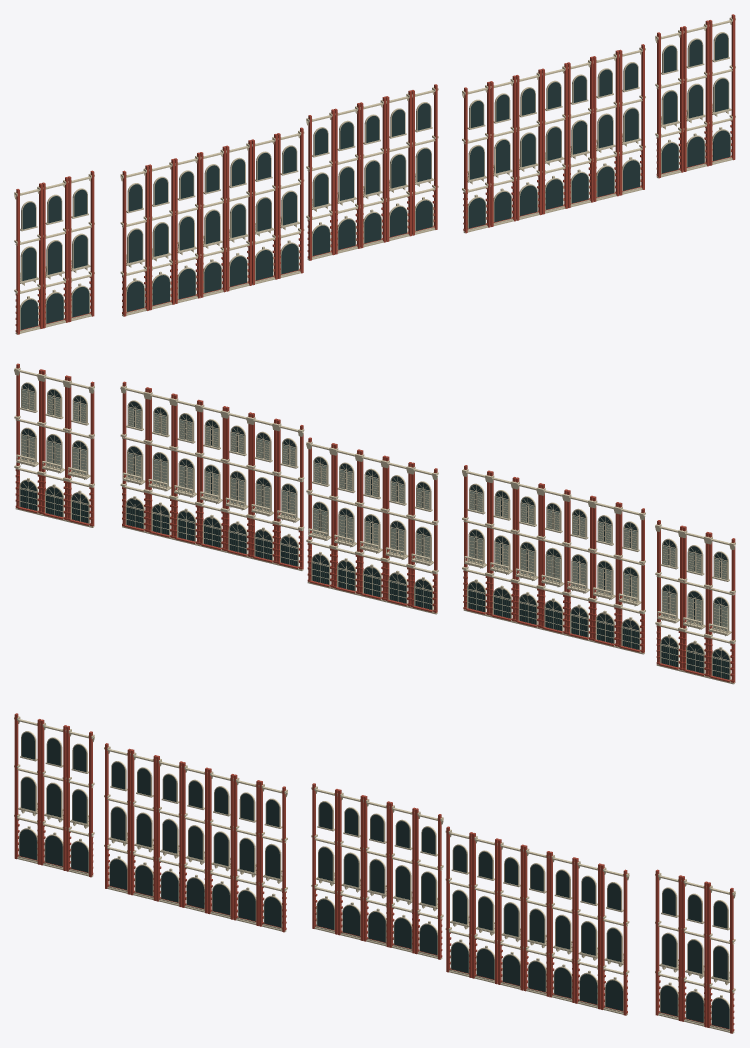
File: KOL_T1_WRITERS__03_Facades.fbx
3 renders of one model, top to bottom at view 1: azimuth 30°, elevation 25°; view 2: azimuth 150°, elevation 25°; view 3: azimuth 330°, elevation 25°, orthographic.
Visible parts, largest first — view 1: KOL_T1_WRITERS__03_Facades__KOL_T1_HeritageGlass, KOL_T1_WRITERS__03_Facades__KOL_T1_HeritageRedLight, KOL_T1_WRITERS__03_Facades__KOL_T1_HeritageCream.003, KOL_T1_WRITERS__03_Facades__KOL_T1_HeritageCream.007, KOL_T1_WRITERS__03_Facades__KOL_T1_HeritageCream.002, KOL_T1_WRITERS__03_Facades__KOL_T1_HeritageCream.006, KOL_T1_WRITERS__03_Facades__KOL_T1_HeritageCream.001, KOL_T1_WRITERS__03_Facades__KOL_T1_HeritageCream.005, KOL_T1_WRITERS__03_Facades__KOL_T1_HeritageCream.004, KOL_T1_WRITERS__03_Facades__KOL_T1_HeritageCream, KOL_T1_WRITERS__03_Facades__KOL_T1_HeritageCream.008; view 2: KOL_T1_WRITERS__03_Facades__KOL_T1_HeritageRedLight, KOL_T1_WRITERS__03_Facades__KOL_T1_HeritageGlass, KOL_T1_WRITERS__03_Facades__KOL_T1_HeritageShutter, KOL_T1_WRITERS__03_Facades__KOL_T1_HeritageCream.007, KOL_T1_WRITERS__03_Facades__KOL_T1_HeritageCream.003, KOL_T1_WRITERS__03_Facades__KOL_T1_HeritageCream.006, KOL_T1_WRITERS__03_Facades__KOL_T1_HeritageCream.002, KOL_T1_WRITERS__03_Facades__KOL_T1_HeritageCream.001, KOL_T1_WRITERS__03_Facades__KOL_T1_HeritageCream.004, KOL_T1_WRITERS__03_Facades__KOL_T1_HeritageCream.005, KOL_T1_WRITERS__03_Facades__KOL_T1_HeritageCream, KOL_T1_WRITERS__03_Facades__KOL_T1_HeritageIron (+1 smaller); view 3: KOL_T1_WRITERS__03_Facades__KOL_T1_HeritageGlass, KOL_T1_WRITERS__03_Facades__KOL_T1_HeritageRedLight, KOL_T1_WRITERS__03_Facades__KOL_T1_HeritageCream.002, KOL_T1_WRITERS__03_Facades__KOL_T1_HeritageCream.006, KOL_T1_WRITERS__03_Facades__KOL_T1_HeritageCream.007, KOL_T1_WRITERS__03_Facades__KOL_T1_HeritageCream.003, KOL_T1_WRITERS__03_Facades__KOL_T1_HeritageCream.001, KOL_T1_WRITERS__03_Facades__KOL_T1_HeritageCream.005, KOL_T1_WRITERS__03_Facades__KOL_T1_HeritageCream.004, KOL_T1_WRITERS__03_Facades__KOL_T1_HeritageCream, KOL_T1_WRITERS__03_Facades__KOL_T1_HeritageCream.008.
Boxes of the visible parts, <box> form: KOL_T1_WRITERS__03_Facades__KOL_T1_HeritageGlass: <box>20,33,730,329</box>; KOL_T1_WRITERS__03_Facades__KOL_T1_HeritageRedLight: <box>15,14,735,334</box>; KOL_T1_WRITERS__03_Facades__KOL_T1_HeritageCream.003: <box>14,85,512,334</box>; KOL_T1_WRITERS__03_Facades__KOL_T1_HeritageCream.007: <box>306,100,408,260</box>; KOL_T1_WRITERS__03_Facades__KOL_T1_HeritageCream.002: <box>45,162,175,325</box>; KOL_T1_WRITERS__03_Facades__KOL_T1_HeritageCream.006: <box>312,17,735,258</box>; KOL_T1_WRITERS__03_Facades__KOL_T1_HeritageCream.001: <box>149,145,249,307</box>; KOL_T1_WRITERS__03_Facades__KOL_T1_HeritageCream.005: <box>570,47,680,207</box>; KOL_T1_WRITERS__03_Facades__KOL_T1_HeritageCream.004: <box>490,66,590,226</box>; KOL_T1_WRITERS__03_Facades__KOL_T1_HeritageCream: <box>226,130,304,288</box>; KOL_T1_WRITERS__03_Facades__KOL_T1_HeritageCream.008: <box>386,87,438,241</box>; KOL_T1_WRITERS__03_Facades__KOL_T1_HeritageRedLight: <box>15,363,735,682</box>; KOL_T1_WRITERS__03_Facades__KOL_T1_HeritageGlass: <box>20,383,729,679</box>; KOL_T1_WRITERS__03_Facades__KOL_T1_HeritageShutter: <box>21,390,727,631</box>; KOL_T1_WRITERS__03_Facades__KOL_T1_HeritageCream.007: <box>334,454,438,614</box>; KOL_T1_WRITERS__03_Facades__KOL_T1_HeritageCream.003: <box>251,423,735,684</box>; KOL_T1_WRITERS__03_Facades__KOL_T1_HeritageCream.006: <box>14,367,433,612</box>; KOL_T1_WRITERS__03_Facades__KOL_T1_HeritageCream.002: <box>590,500,705,676</box>; KOL_T1_WRITERS__03_Facades__KOL_T1_HeritageCream.001: <box>513,484,618,646</box>; KOL_T1_WRITERS__03_Facades__KOL_T1_HeritageCream.004: <box>174,404,277,564</box>; KOL_T1_WRITERS__03_Facades__KOL_T1_HeritageCream.005: <box>67,385,199,545</box>; KOL_T1_WRITERS__03_Facades__KOL_T1_HeritageCream: <box>462,469,541,627</box>; KOL_T1_WRITERS__03_Facades__KOL_T1_HeritageIron: <box>22,489,727,679</box>; KOL_T1_WRITERS__03_Facades__KOL_T1_HeritageGlass: <box>19,732,729,1028</box>; KOL_T1_WRITERS__03_Facades__KOL_T1_HeritageRedLight: <box>14,713,734,1033</box>; KOL_T1_WRITERS__03_Facades__KOL_T1_HeritageCream.002: <box>43,729,156,900</box>; KOL_T1_WRITERS__03_Facades__KOL_T1_HeritageCream.006: <box>315,846,735,1033</box>; KOL_T1_WRITERS__03_Facades__KOL_T1_HeritageCream.007: <box>311,786,412,950</box>; KOL_T1_WRITERS__03_Facades__KOL_T1_HeritageCream.003: <box>14,716,494,981</box>; KOL_T1_WRITERS__03_Facades__KOL_T1_HeritageCream.001: <box>130,758,233,919</box>; KOL_T1_WRITERS__03_Facades__KOL_T1_HeritageCream.005: <box>548,854,678,1018</box>; KOL_T1_WRITERS__03_Facades__KOL_T1_HeritageCream.004: <box>471,836,572,1000</box>; KOL_T1_WRITERS__03_Facades__KOL_T1_HeritageCream: <box>207,771,287,931</box>; KOL_T1_WRITERS__03_Facades__KOL_T1_HeritageCream.008: <box>389,805,443,959</box>.
Bounding box in the file's own units: 308 × 59.05 × 11.63.
